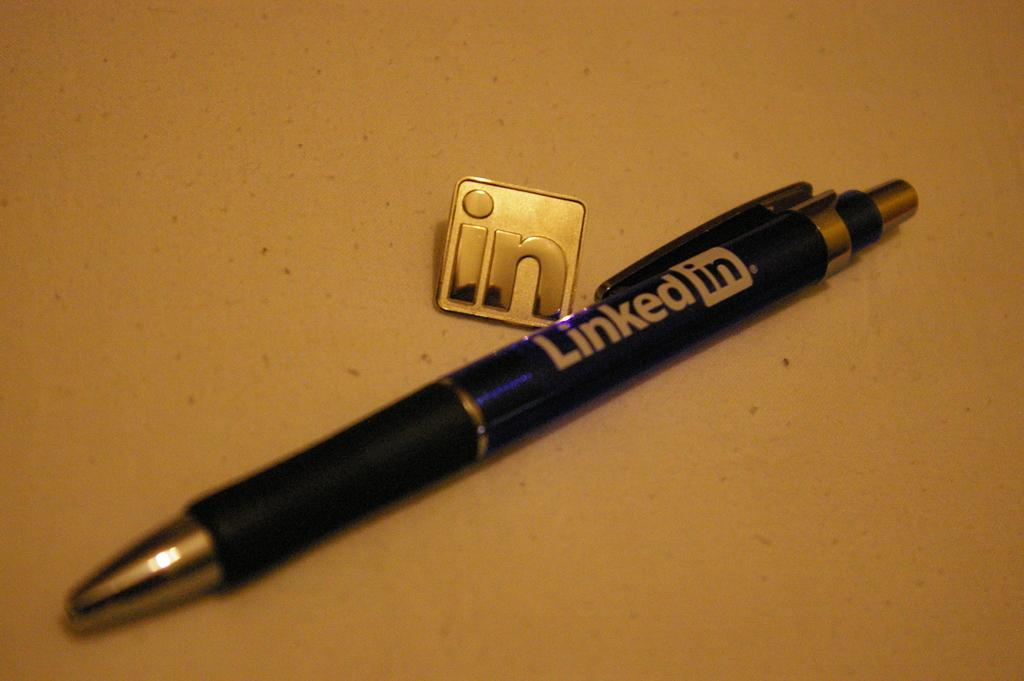pen: (58, 174, 918, 632)
